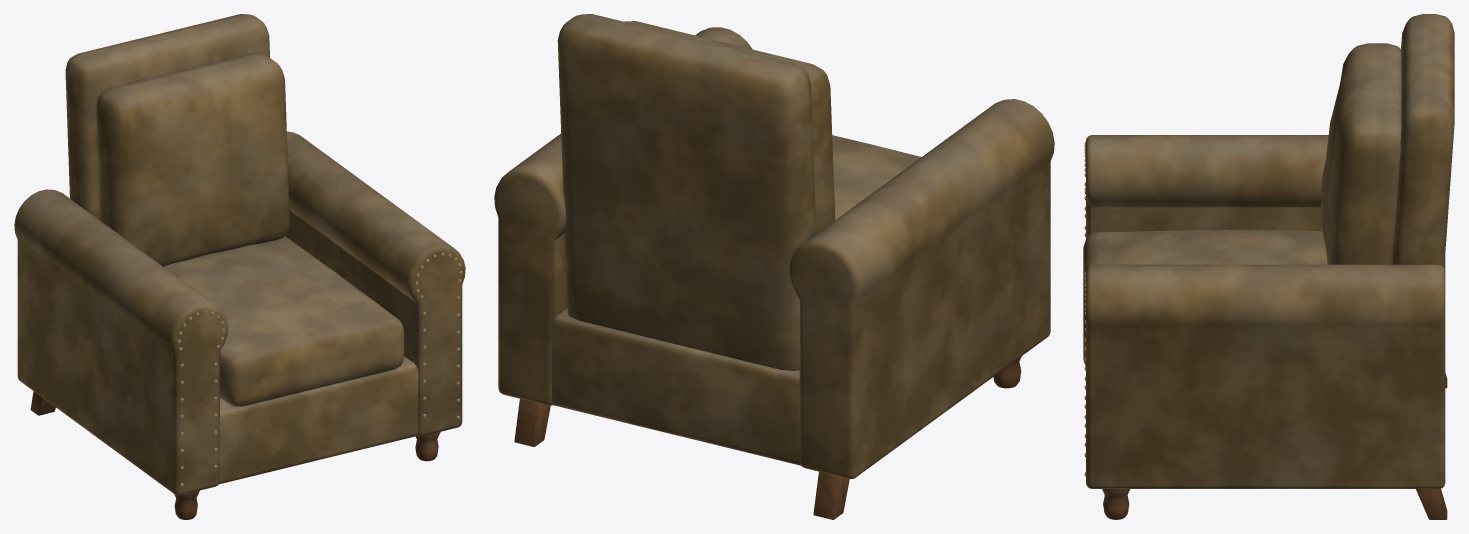
Rendered from poltrona.glb.
The picture shows the model from 3 angles, left to right: view 1: azimuth 30°, elevation 25°; view 2: azimuth 150°, elevation 25°; view 3: azimuth 270°, elevation 25°; orthographic projection. The views are drawn at different scales.
Visible parts, largest first — view 1: estofado, pes; view 2: estofado, pes; view 3: estofado, pes.
Part boxes in pixels (x1,y1,x2,y2): estofado: (14, 14, 465, 495); pes: (30, 391, 440, 519); estofado: (494, 14, 1054, 478); pes: (514, 356, 1021, 519); estofado: (1083, 14, 1454, 488); pes: (1102, 373, 1447, 519).
Size of the model in its own units: 0.8697 by 0.98 by 0.8463.
Materials: 1 (1 with a texture image).
